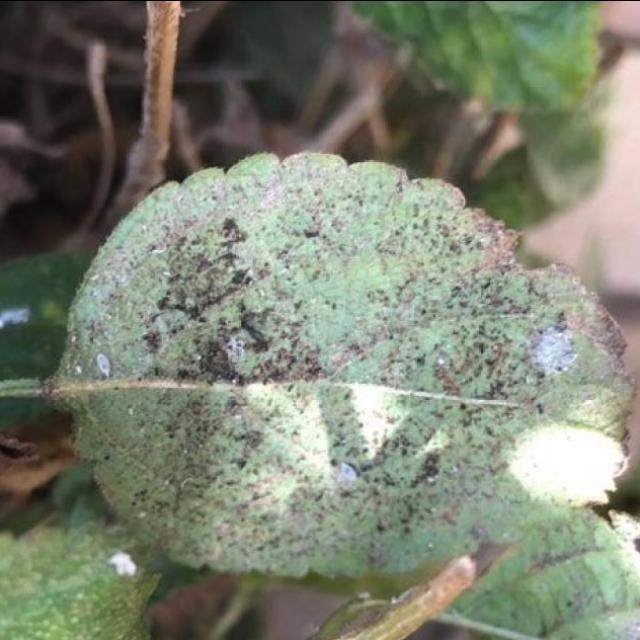Whitefly: (346, 248, 546, 530), (156, 216, 324, 510), (377, 206, 479, 242)
